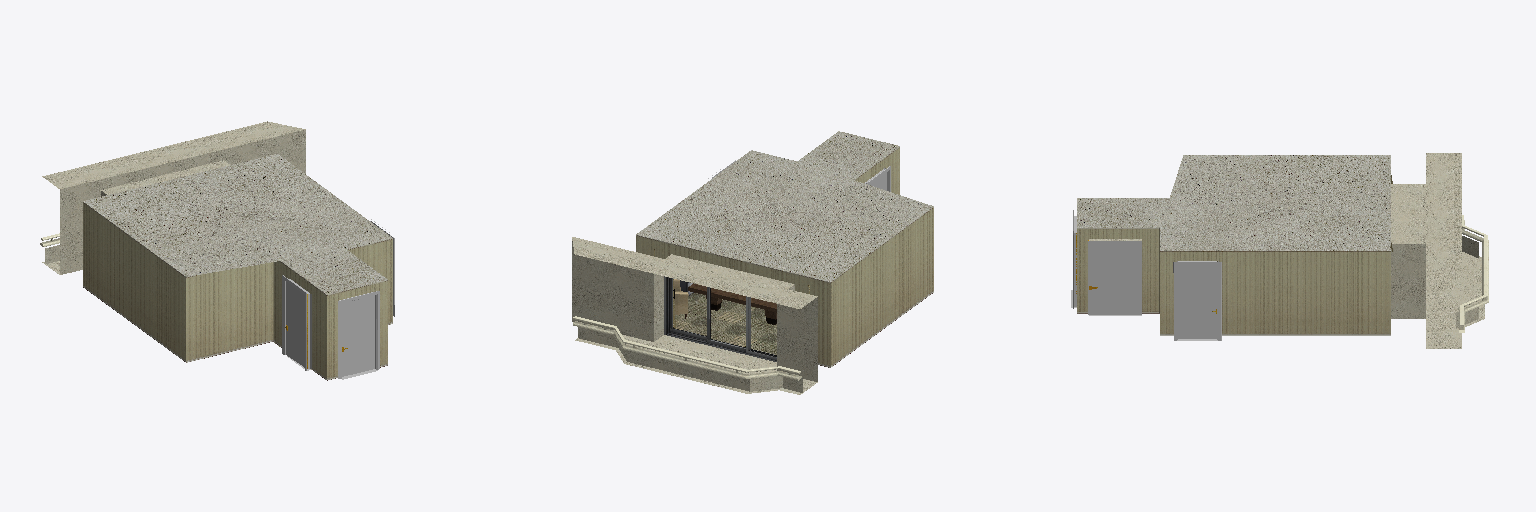
The picture shows the model from 3 angles: view 1: azimuth 30°, elevation 25°; view 2: azimuth 150°, elevation 25°; view 3: azimuth 270°, elevation 25°; orthographic projection.
Parts seen in each view (by area): view 1: VBSP_Object.model_0.004, VBSP_Object.model_instance_1570.body.dmx/metal_door_112_ref.001, VBSP_Object.model_instance_143.body.dmx/metal_door_112_frame_re, VBSP_Object.model_instance_1570.body.dmx/metal_door_112_ref.002; view 2: VBSP_Object.model_0.004, VBSP_Object.model_instance_393.body.dmx/hotel_balcony_rail001.d, VBSP_Object.model_instance_787.Body.Hotel_door_sliding.smd.mesh, Plane.001; view 3: VBSP_Object.model_0.004, VBSP_Object.model_instance_1570.body.dmx/metal_door_112_ref.004, VBSP_Object.model_instance_1570.body.dmx/metal_door_112_ref.003, VBSP_Object.model_instance_393.body.dmx/hotel_balcony_rail001.d, VBSP_Object.model_instance_143.body.dmx/metal_door_112_fram.001.
Part boxes in pixels (bbox=[...]): VBSP_Object.model_0.004: bbox=[42, 121, 392, 380]; VBSP_Object.model_instance_1570.body.dmx/metal_door_112_ref.001: bbox=[342, 296, 374, 376]; VBSP_Object.model_instance_143.body.dmx/metal_door_112_frame_re: bbox=[282, 219, 389, 378]; VBSP_Object.model_instance_1570.body.dmx/metal_door_112_ref.002: bbox=[285, 282, 307, 368]; VBSP_Object.model_0.004: bbox=[572, 131, 933, 394]; VBSP_Object.model_instance_393.body.dmx/hotel_balcony_rail001.d: bbox=[573, 316, 801, 380]; VBSP_Object.model_instance_787.Body.Hotel_door_sliding.smd.mesh: bbox=[664, 276, 776, 361]; Plane.001: bbox=[688, 283, 776, 324]; VBSP_Object.model_0.004: bbox=[1071, 153, 1484, 348]; VBSP_Object.model_instance_1570.body.dmx/metal_door_112_ref.004: bbox=[1088, 240, 1141, 314]; VBSP_Object.model_instance_1570.body.dmx/metal_door_112_ref.003: bbox=[1178, 266, 1216, 338]; VBSP_Object.model_instance_393.body.dmx/hotel_balcony_rail001.d: bbox=[1459, 215, 1488, 332]; VBSP_Object.model_instance_143.body.dmx/metal_door_112_fram.001: bbox=[1173, 261, 1221, 340].
Bounding box in the file's own units: 8.81 × 2.94 × 12.97.
Materials: 25 (19 with a texture image).